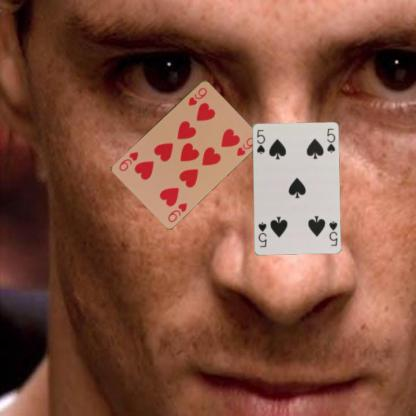5s: (254, 127, 266, 156), (326, 218, 338, 247)
9h: (185, 84, 208, 107), (166, 200, 188, 223)
